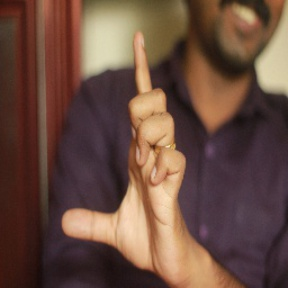L: (57, 33, 188, 263)
